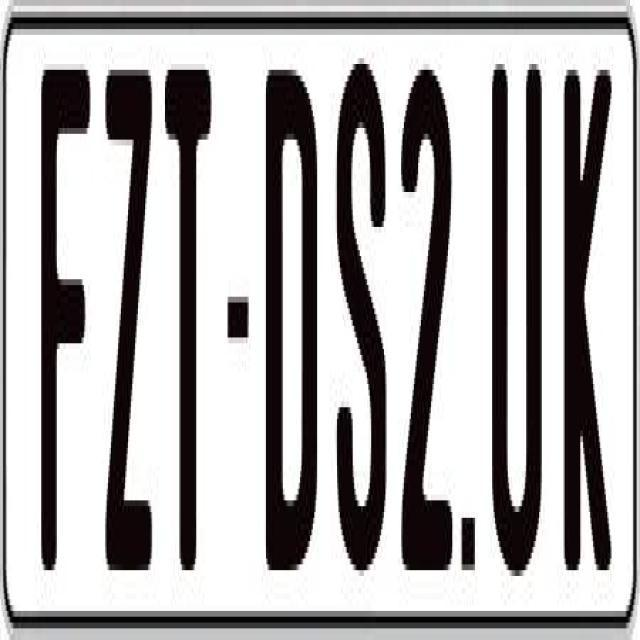2: (400, 64, 456, 576)
D: (263, 52, 315, 582)
F: (40, 70, 94, 606)
K: (562, 58, 613, 594)
S: (337, 47, 391, 571)
T: (164, 53, 210, 559)
U: (488, 64, 538, 582)
Z: (103, 52, 157, 576)
